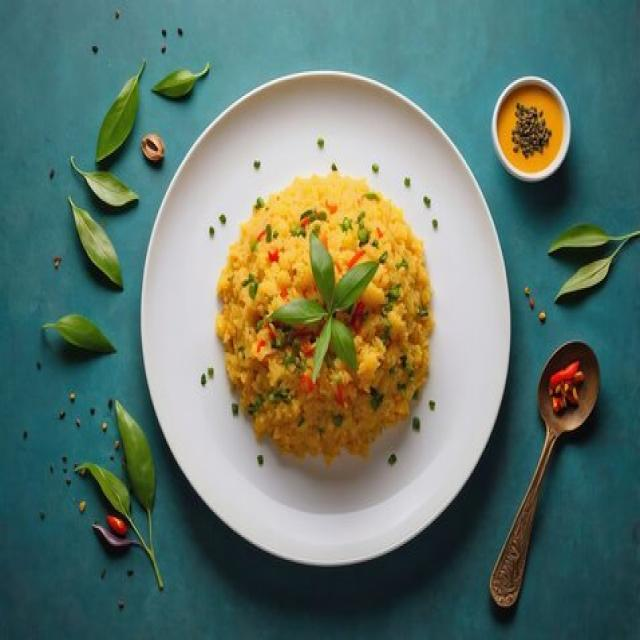UPMA: (216, 174, 432, 460)
